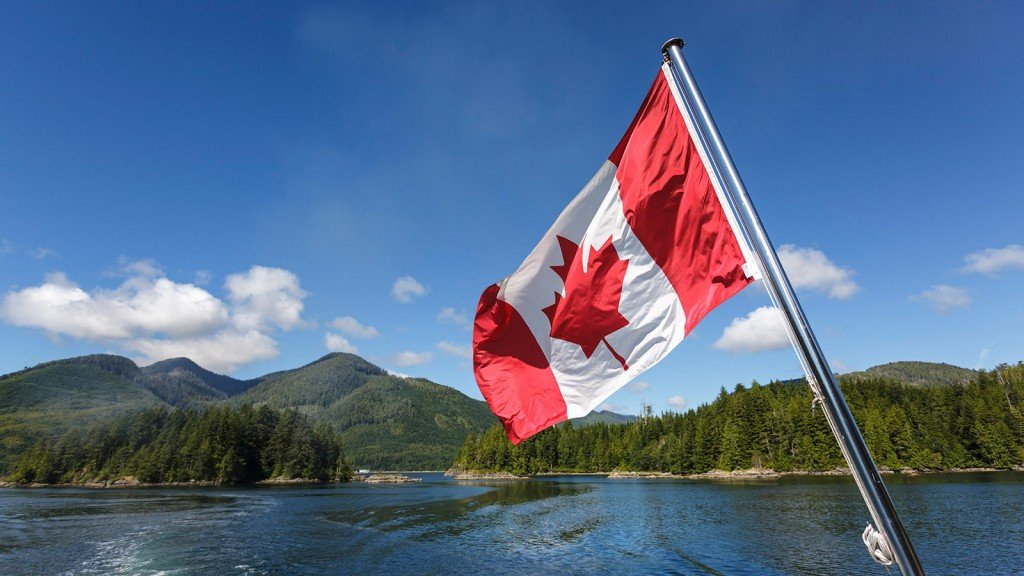Canada flag: (472, 70, 768, 448)
